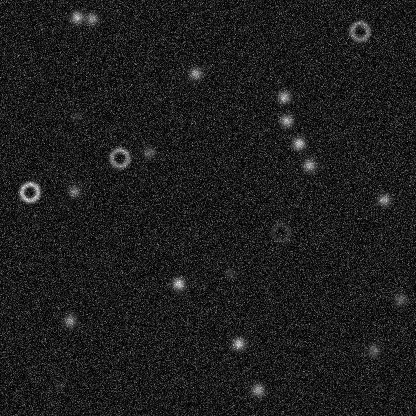Ring: (107, 145, 131, 169), (17, 180, 41, 204), (347, 18, 371, 42), (268, 220, 292, 244)
Spot: (66, 183, 82, 199), (392, 291, 408, 307), (61, 312, 77, 328), (365, 342, 381, 358), (187, 65, 203, 81), (50, 378, 66, 394), (83, 10, 99, 26), (67, 108, 83, 124), (278, 112, 294, 128), (222, 265, 238, 281), (68, 9, 84, 25), (140, 144, 156, 160), (301, 157, 317, 173), (275, 89, 291, 105), (376, 191, 392, 207), (170, 275, 186, 291), (230, 335, 246, 351), (249, 381, 265, 397), (290, 135, 306, 151)
